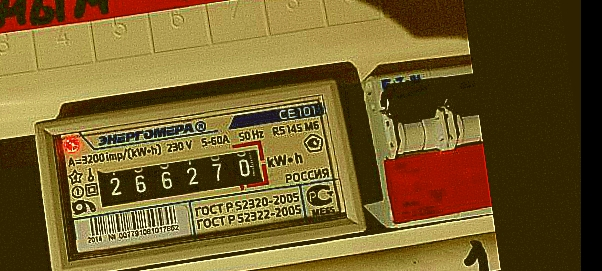0: (236, 156, 251, 177)
2: (106, 175, 124, 196), (183, 164, 200, 186)
6: (132, 171, 148, 194), (159, 168, 174, 190)
7: (209, 160, 224, 181)
screen: (86, 136, 275, 214)
